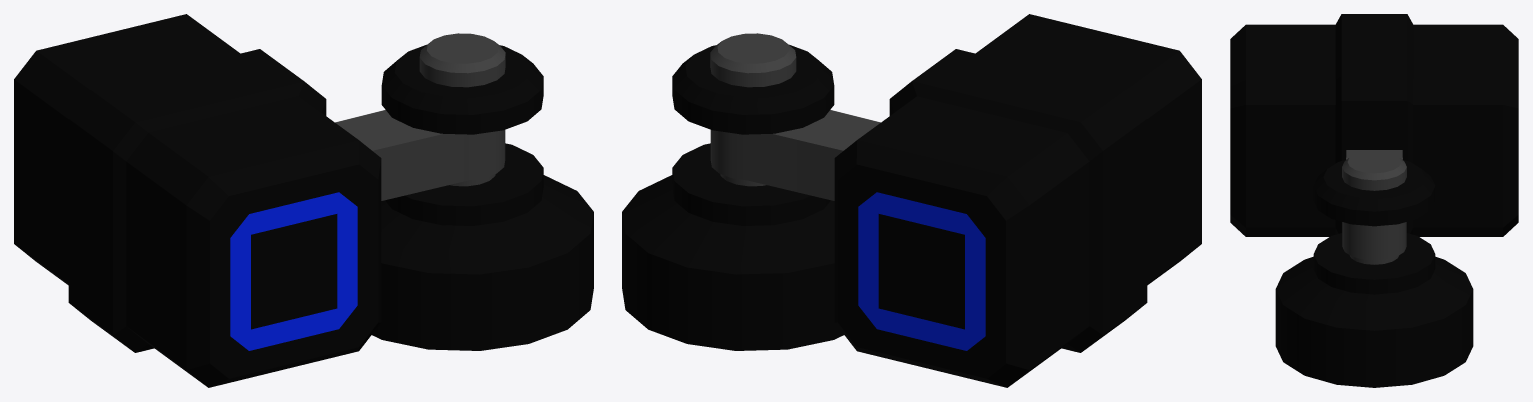
Rendered from Attachment_Rolling Hammer.fbx.
3 renders of one model, left to right at view 1: azimuth 30°, elevation 25°; view 2: azimuth 150°, elevation 25°; view 3: azimuth 270°, elevation 25°, orthographic. The views are drawn at different scales.
Visible parts, largest first — view 1: Attachment_Rolling Hammer; view 2: Attachment_Rolling Hammer; view 3: Attachment_Rolling Hammer.
Part boxes in pixels (x1,y1,x2,y2): Attachment_Rolling Hammer: (14,14,593,387); Attachment_Rolling Hammer: (622,14,1201,387); Attachment_Rolling Hammer: (1230,14,1518,387).
Size of the model in its own units: 1.84 by 0.99 by 1.26.
